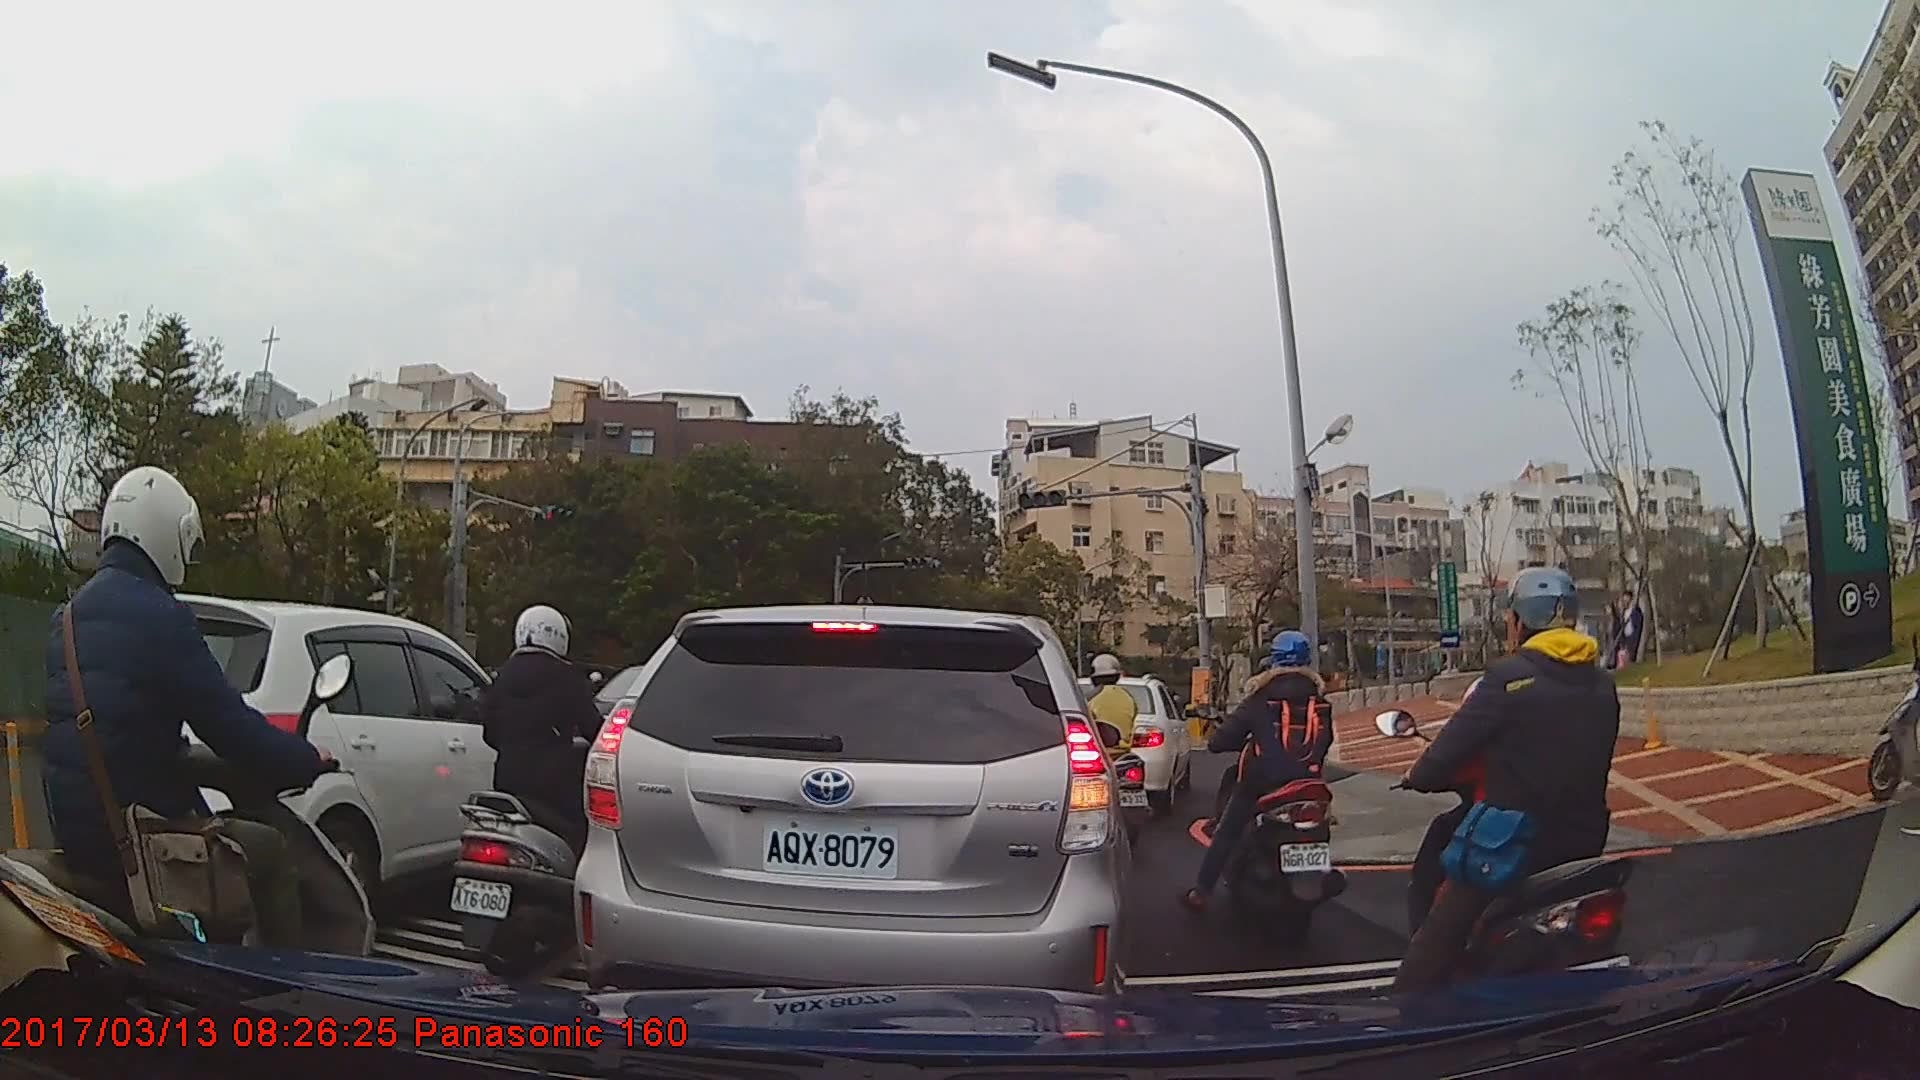pedestrian: (1610, 582, 1653, 677), (1593, 594, 1629, 686)
rider: (10, 469, 370, 1060), (1374, 568, 1643, 1036), (449, 603, 642, 976), (1181, 626, 1360, 948), (1059, 652, 1151, 846)
vehicle: (568, 601, 1139, 1033), (40, 591, 572, 930)
